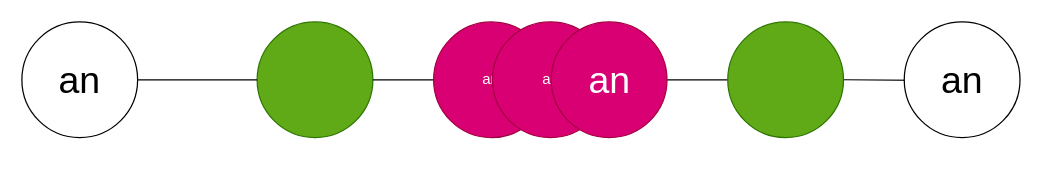
Image size: 1044x169. Some labels were removed from this diagram. Each missing label, with the centre of its shape:
"ai" goes at pixel 314 79.
"aj" goes at pixel 785 79.
